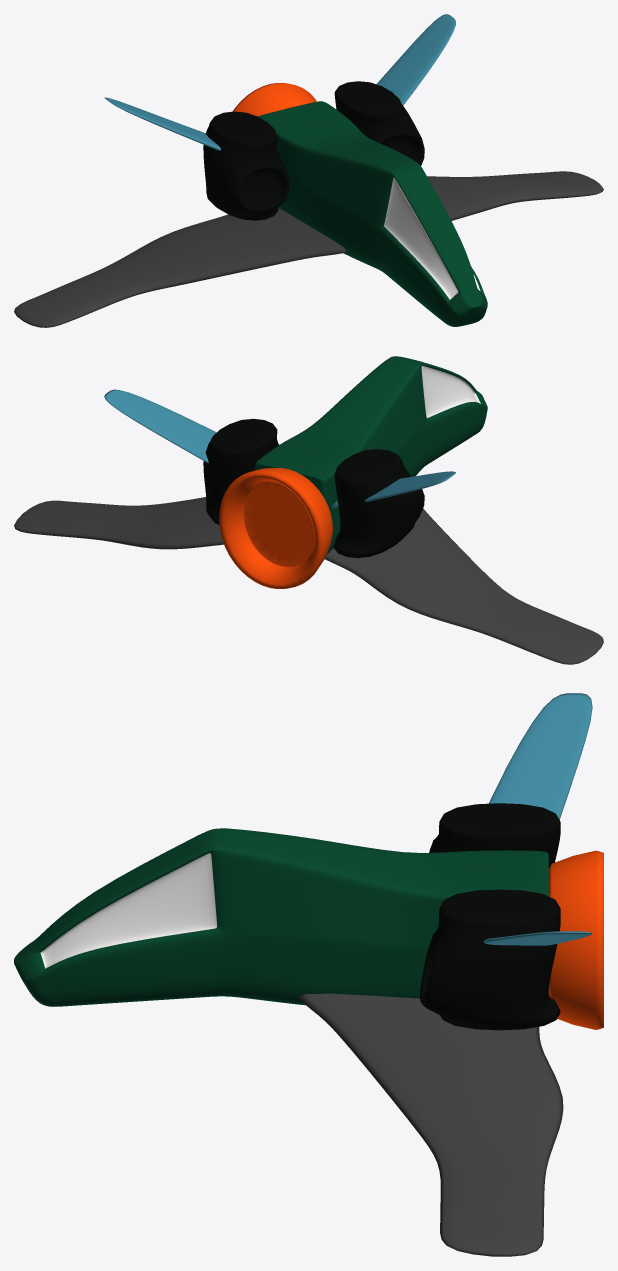
The model's file is spaceship_v1.fbx.
3 views of the same model, one above another, from view 1: azimuth 30°, elevation 25°; view 2: azimuth 150°, elevation 25°; view 3: azimuth 270°, elevation 25° (orthographic). The views are drawn at different scales.
Visible parts, largest first — view 1: spaceship_v1_export; view 2: spaceship_v1_export; view 3: spaceship_v1_export.
Part boxes in pixels (x1,y1,x2,y2): spaceship_v1_export: (14, 14, 603, 327); spaceship_v1_export: (14, 356, 603, 664); spaceship_v1_export: (14, 693, 603, 1256).
Size of the model in its own units: 7.26 by 2.11 by 4.55.
